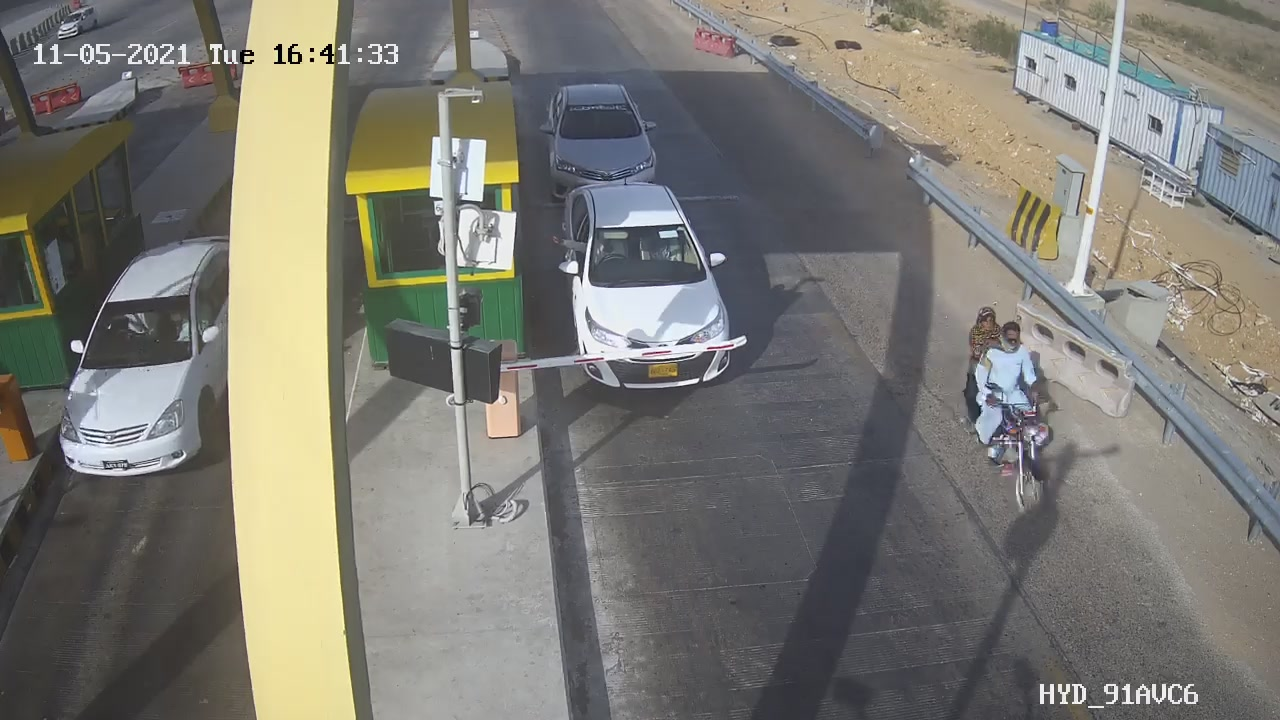F1: (539, 175, 760, 405), (526, 73, 683, 204)
